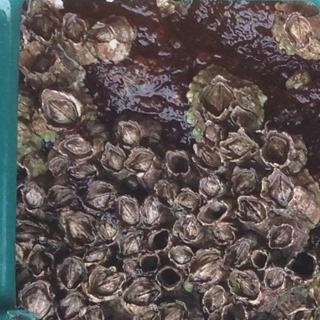Barnacle: (42, 94, 80, 128), (203, 77, 235, 117), (94, 16, 130, 47), (87, 271, 124, 301), (188, 249, 220, 283), (25, 9, 59, 39), (22, 285, 51, 318), (267, 174, 293, 210), (124, 279, 158, 306), (232, 269, 259, 301), (65, 214, 94, 243), (263, 135, 291, 165), (227, 131, 255, 159), (59, 259, 85, 289), (97, 212, 121, 243), (118, 233, 145, 259), (287, 16, 311, 45), (56, 295, 85, 319), (240, 199, 266, 225), (62, 136, 92, 158), (28, 248, 51, 276), (64, 16, 86, 45), (119, 199, 141, 228), (87, 186, 112, 211), (227, 241, 251, 267), (200, 146, 225, 170), (143, 202, 165, 228), (120, 122, 141, 148), (67, 165, 97, 183), (127, 153, 155, 172), (271, 226, 294, 249), (31, 53, 53, 76), (168, 247, 193, 267), (206, 289, 225, 315), (105, 150, 124, 175), (212, 222, 234, 243), (266, 268, 287, 290), (181, 214, 199, 239), (201, 176, 221, 198), (84, 246, 108, 264), (203, 122, 223, 143), (178, 192, 199, 212), (158, 182, 173, 208), (26, 186, 43, 208), (160, 303, 182, 319), (51, 159, 66, 175), (87, 306, 104, 319), (137, 310, 157, 319)
